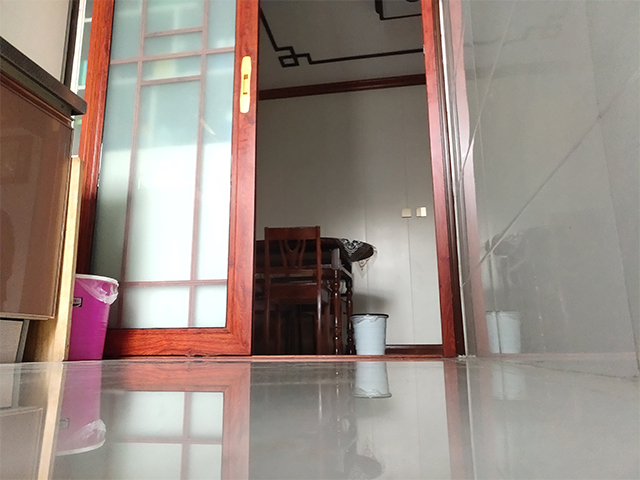cabinet: (1, 34, 89, 365)
stool: (260, 223, 334, 356)
table: (254, 236, 378, 359)
trashcan: (67, 273, 121, 362), (350, 312, 392, 356)
